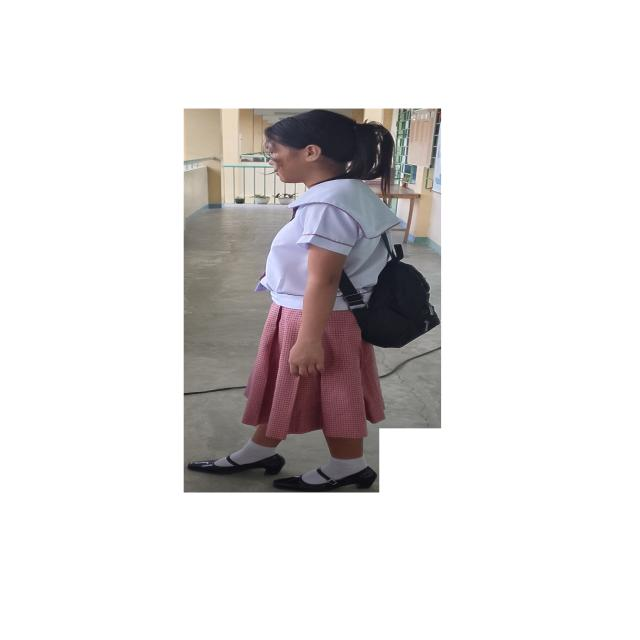pologirl: (256, 185, 400, 309)
shoes: (187, 454, 285, 475), (273, 476, 349, 492), (351, 471, 375, 488)
skirt: (241, 303, 384, 439)
